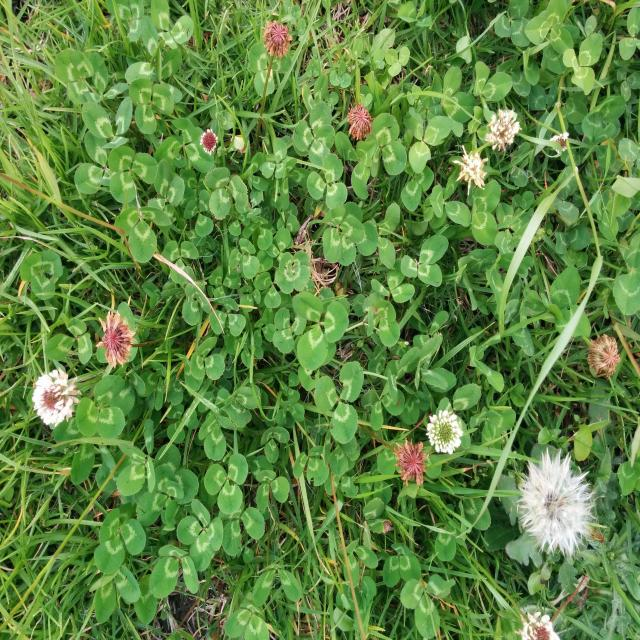Four Leaf Clover: (177, 499, 223, 571)
